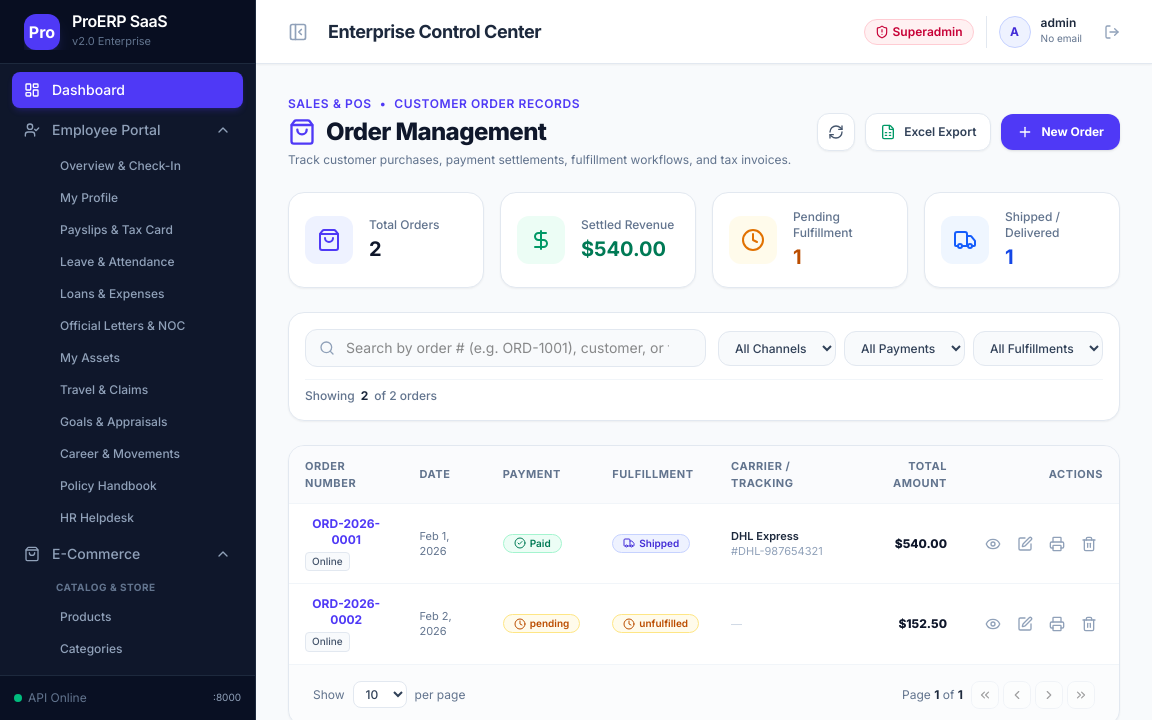
Test: Ecommerce Orders In-Place Non-Destructive Filtering Audit › opens order detail drawer with line items and customer information
Step 1. Click the button "ORD-2026-0001" → (346, 532), box [305, 516, 388, 548]
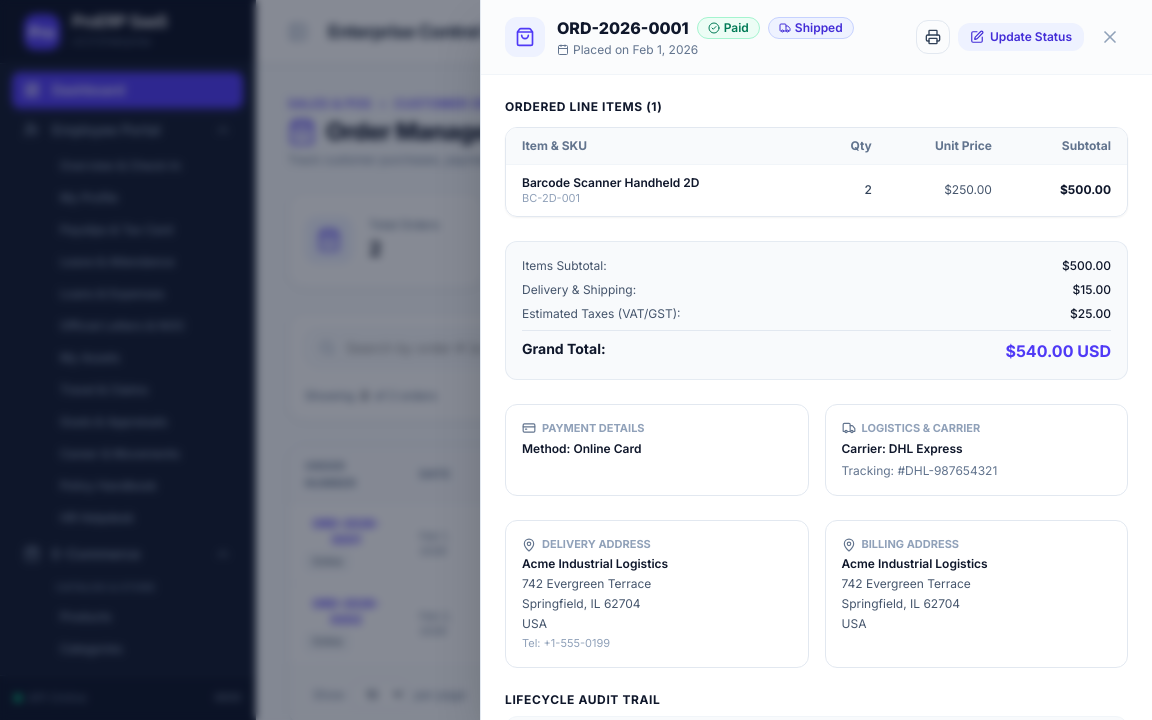
Check: the text "Barcode Scanner Handheld 2D" is shown, box [522, 175, 700, 190]
